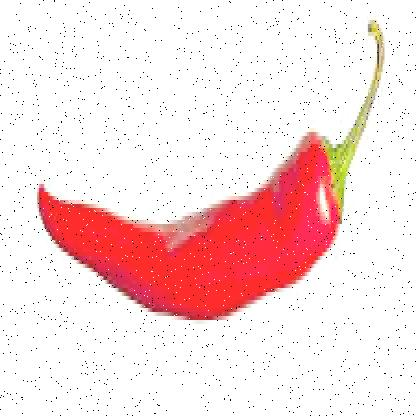chili: (33, 12, 383, 316)
